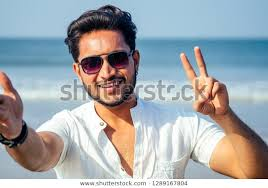Indian_Male: (74, 24, 139, 101)
